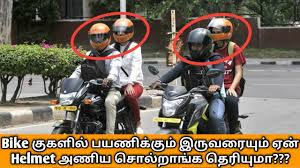helmet: (180, 24, 213, 58), (202, 11, 232, 41), (111, 17, 140, 43), (86, 23, 111, 51)
